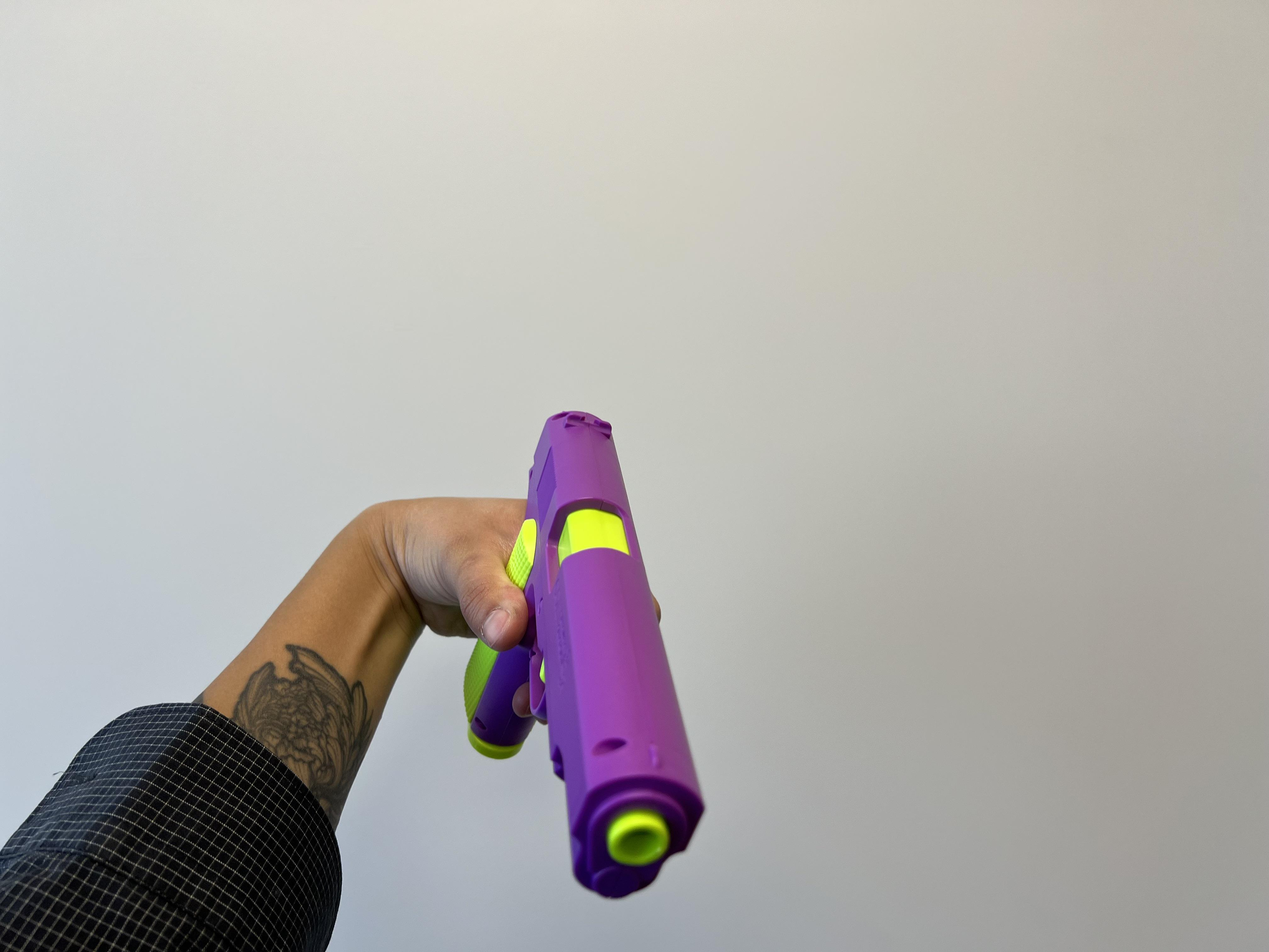Knife: (0, 472, 546, 952), (458, 408, 713, 902), (382, 488, 669, 655)
